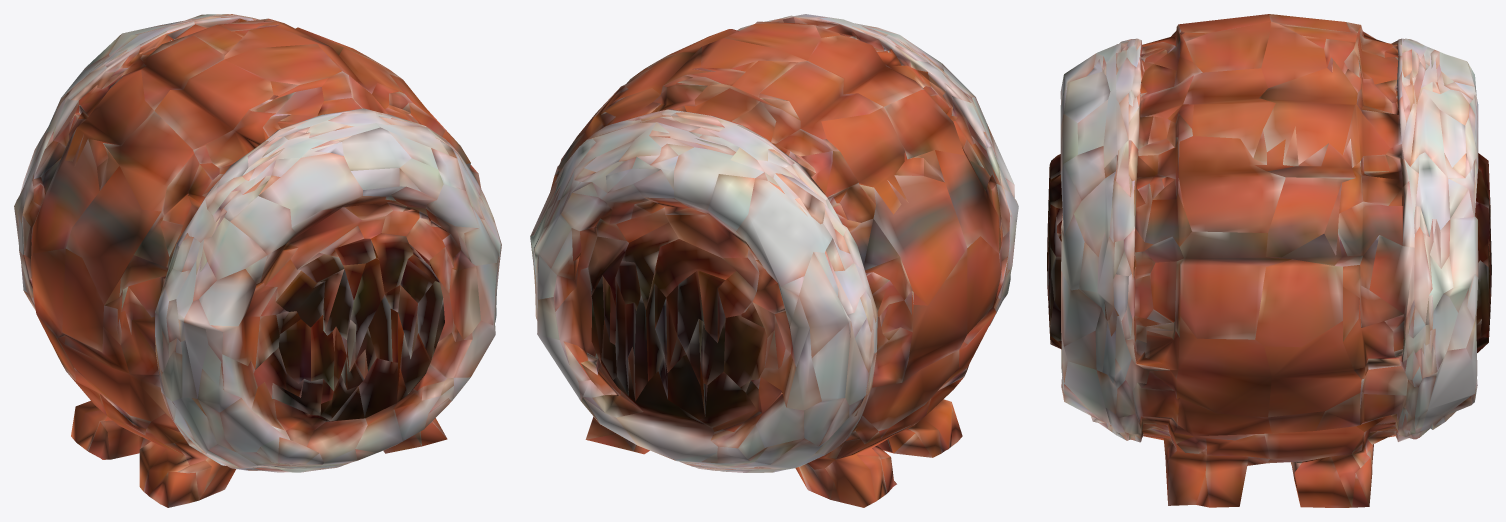
Rendered from barrel.glb.
3 views of the same model, side by side, from view 1: azimuth 30°, elevation 25°; view 2: azimuth 150°, elevation 25°; view 3: azimuth 270°, elevation 25° (orthographic). The views are drawn at different scales.
Size of the model in its own units: 1.89 by 1.79 by 1.79.
Materials: 1 (1 with a texture image).
